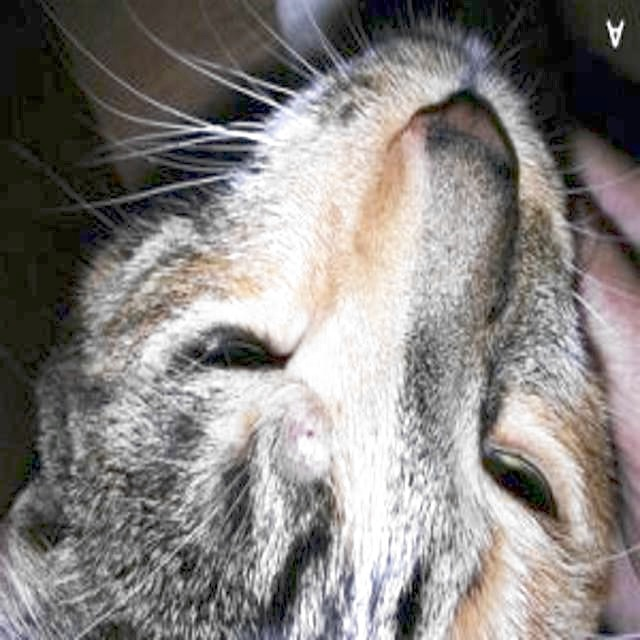lump_and_bump: (276, 398, 330, 478)
